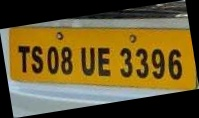character: (96, 46, 112, 77), (167, 48, 183, 79), (134, 47, 149, 78), (150, 48, 165, 79), (79, 46, 95, 75), (118, 47, 132, 78), (59, 46, 73, 75), (30, 45, 44, 73), (46, 45, 59, 75), (17, 44, 30, 73)
